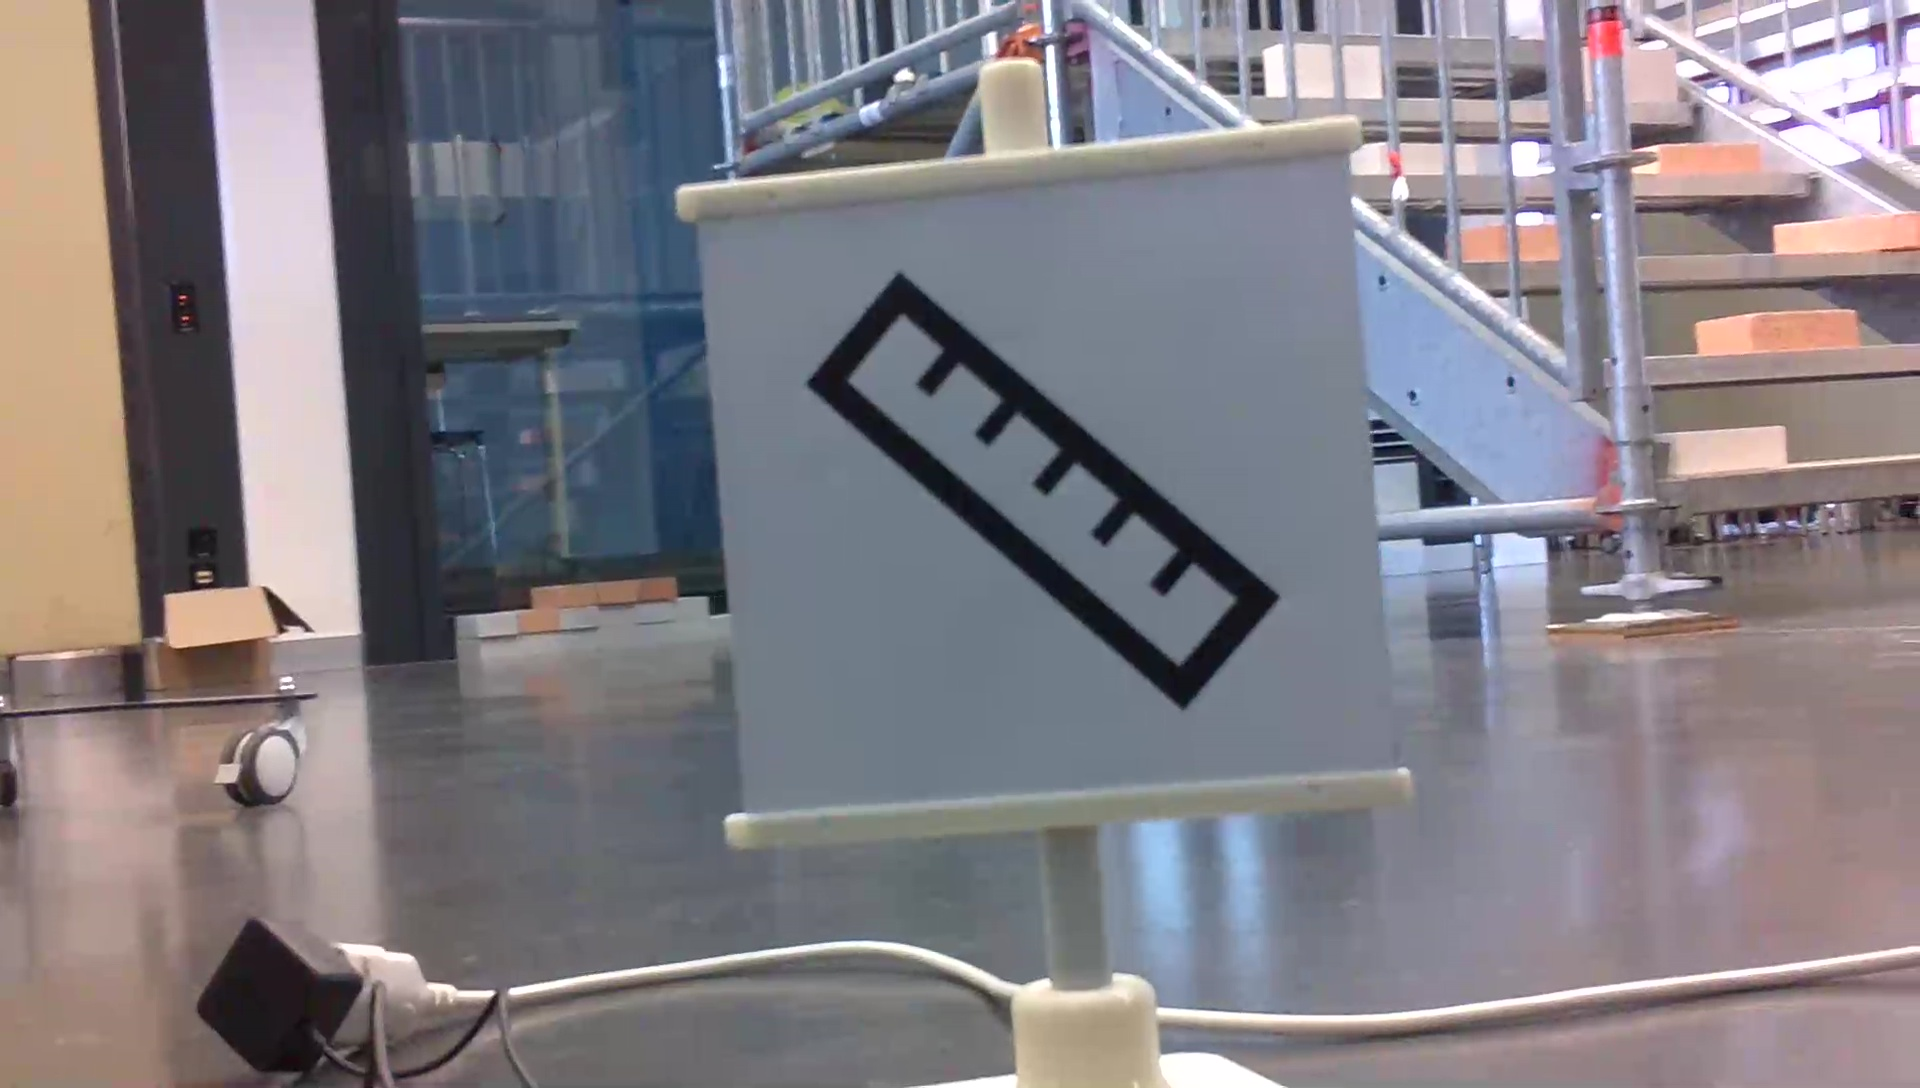brick: (1270, 32, 1396, 98), (1706, 305, 1862, 351), (1660, 415, 1785, 472), (1563, 51, 1677, 99), (1465, 216, 1585, 258), (1642, 131, 1754, 175), (1782, 215, 1920, 247), (1353, 125, 1447, 171)
edge: (1683, 452, 1920, 533), (1646, 346, 1917, 388), (1636, 253, 1920, 276), (1633, 169, 1807, 198), (1613, 103, 1693, 124)
ruler: (804, 251, 1303, 704)
